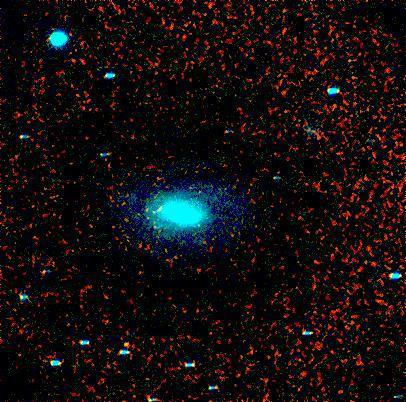star: (111, 329, 141, 359)
